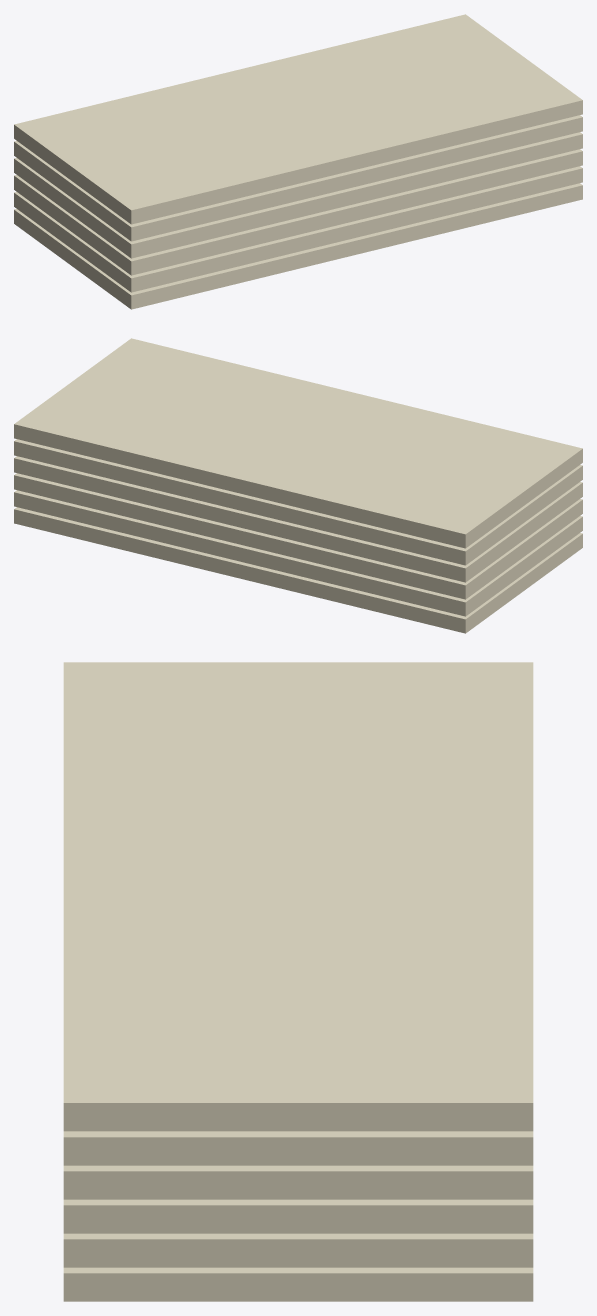
3 views of the same model, one above another, from view 1: azimuth 30°, elevation 25°; view 2: azimuth 150°, elevation 25°; view 3: azimuth 270°, elevation 25° (orthographic). The views are drawn at different scales.
Bounding box in the file's own units: 0.4 × 0.084 × 0.18.
